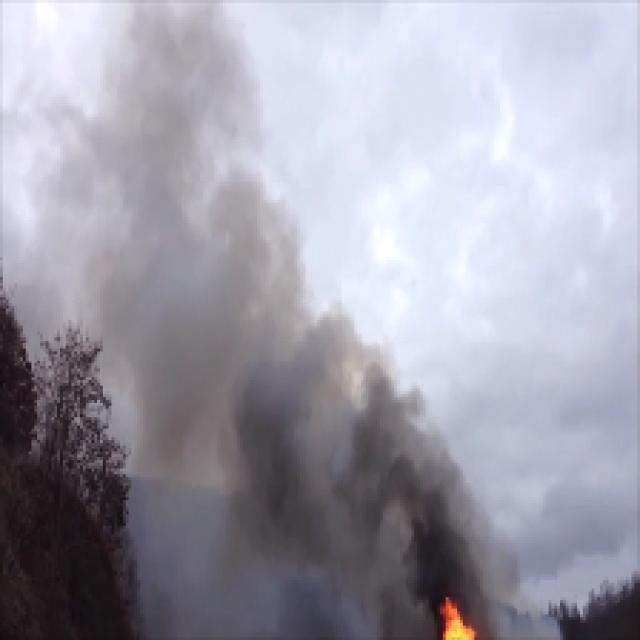Fire: (444, 592, 468, 638)
Smoke: (116, 24, 241, 400), (252, 318, 389, 556), (392, 439, 466, 592)
